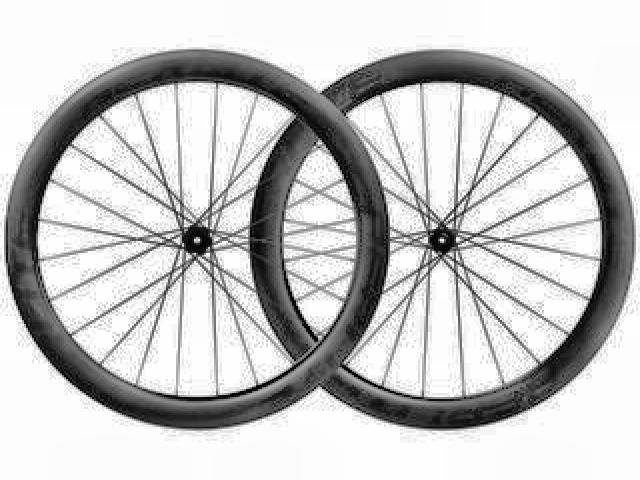wheel: (251, 46, 636, 434), (5, 45, 392, 430)
